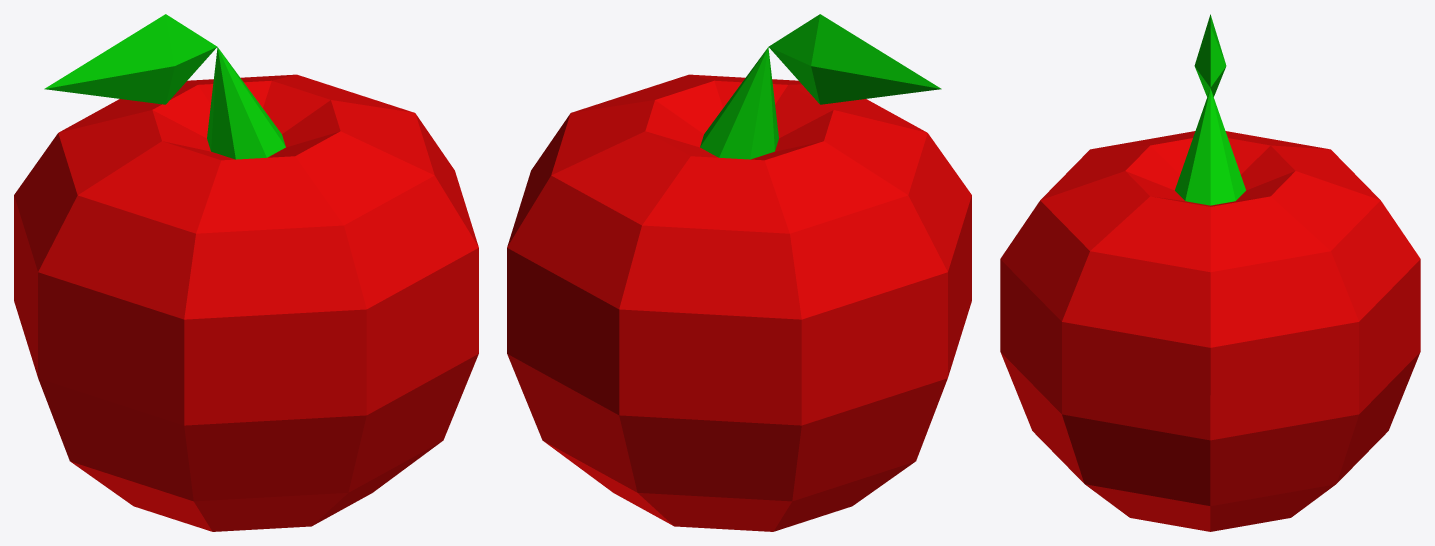
File: Apple.fbx
3 views of the same model, side by side, from view 1: azimuth 30°, elevation 25°; view 2: azimuth 150°, elevation 25°; view 3: azimuth 270°, elevation 25° (orthographic). The views are drawn at different scales.
Visible parts, largest first — view 1: Apple; view 2: Apple; view 3: Apple.
Boxes of the visible parts, bbox=[...] form: Apple: bbox=[14, 14, 478, 531]; Apple: bbox=[507, 14, 971, 531]; Apple: bbox=[1000, 14, 1420, 531].
Bounding box in the file's own units: 0.1066 × 0.1184 × 0.1066.
